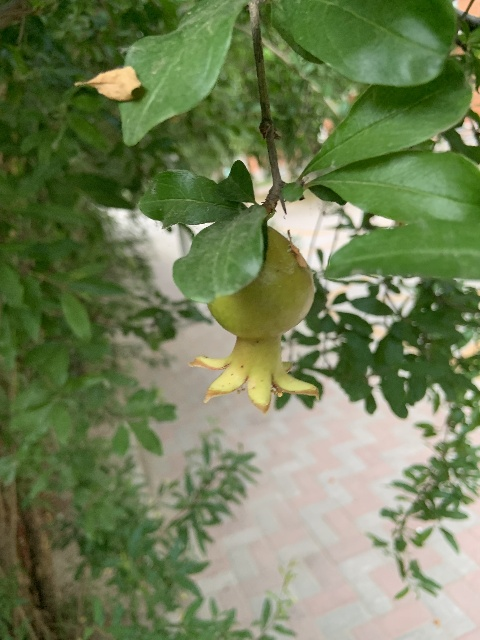mid-growth: (188, 228, 319, 414)
